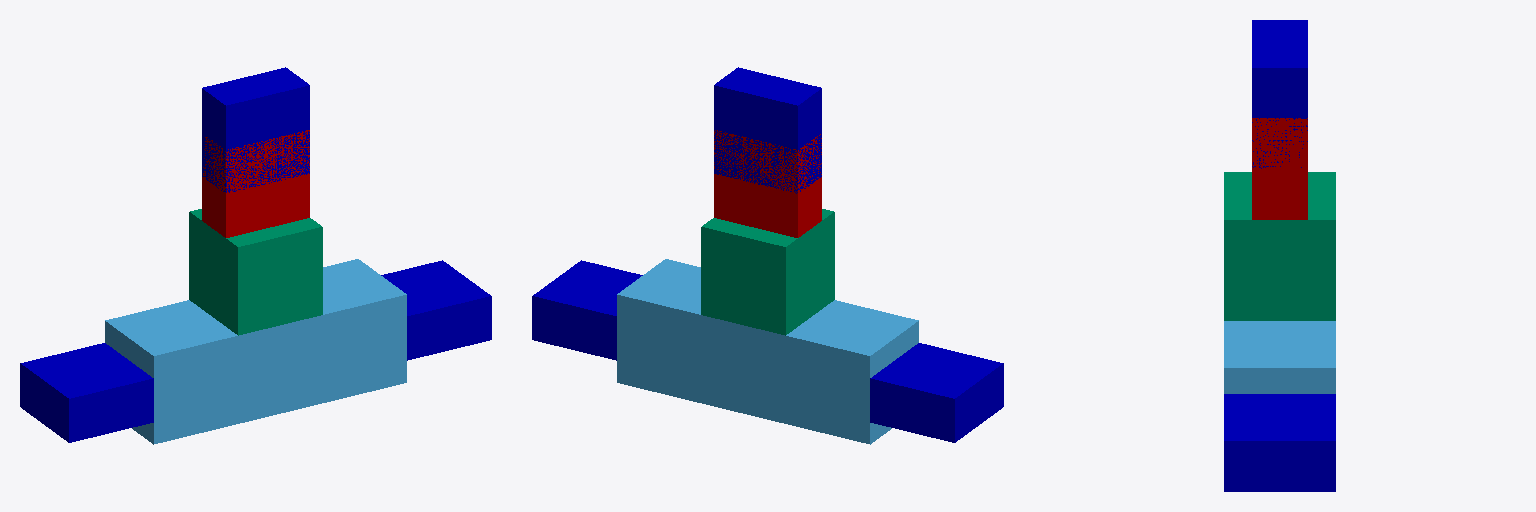
The robot description file, URDF, robot "Chain":
<?xml version="1.0" ?>
<!-- =================================================================================== -->
<!-- |    This document was autogenerated by xacro from chain3.xacro                   | -->
<!-- |    EDITING THIS FILE BY HAND IS NOT RECOMMENDED                                 | -->
<!-- =================================================================================== -->
<robot name="Chain" xmlns:xacro="http://www.ros.org/wiki/xacro">
  <link name="baselink"/>
  <link name="chainbase">
    <visual>
      <geometry>
        <box size="0.3 0.1 0.1"/>
      </geometry>
    </visual>
    <inertial>
      <mass value="1"/>
      <inertia ixx="0.00666666666667" ixy="0.0" ixz="0.0" iyy="0.0333333333333" iyz="0.0" izz="0.0333333333333"/>
    </inertial>
  </link>
  <link name="fixedlink">
    <visual>
      <geometry>
        <box size="0.1 0.1 0.1"/>
      </geometry>
    </visual>
    <inertial>
      <mass value="1"/>
      <inertia ixx="0.00666666666667" ixy="0.0" ixz="0.0" iyy="0.00666666666667" iyz="0.0" izz="0.00666666666667"/>
    </inertial>
  </link>
  <link name="link1">
    <visual>
      <origin rpy="0 0 0" xyz="0.05 0.0 0"/>
      <geometry>
        <box size="0.1 .10 0.05"/>
      </geometry>
      <material name="blue">
        <color rgba="0 0 0.8 1"/>
      </material>
    </visual>
    <inertial>
      <origin rpy="0 0 0" xyz="0.05 0.0 0"/>
      <mass value="1"/>
      <inertia ixx="0.00416666666667" ixy="0.0" ixz="0.0" iyy="0.00416666666667" iyz="0.0" izz="0.00666666666667"/>
    </inertial>
  </link>
  <link name="link2">
    <visual>
      <origin rpy="0 0 0" xyz="-0.05 0.0 0"/>
      <geometry>
        <box size="0.1 .10 0.05"/>
      </geometry>
      <material name="blue">
        <color rgba="0 0 0.8 1"/>
      </material>
    </visual>
    <inertial>
      <origin rpy="0 0 0" xyz="-0.05 0.0 0"/>
      <mass value="1"/>
      <inertia ixx="0.00416666666667" ixy="0.0" ixz="0.0" iyy="0.00416666666667" iyz="0.0" izz="0.00666666666667"/>
    </inertial>
  </link>
  <link name="link3">
    <visual>
      <origin rpy="0 0 0" xyz="0.0 0.0 0.05"/>
      <geometry>
        <box size="0.1 0.05 0.1"/>
      </geometry>
      <material name="red">
        <color rgba="0.8 0 0 1"/>
      </material>
    </visual>
    <inertial>
      <origin rpy="0 0 0" xyz="0.0 0.0 0.05"/>
      <mass value="1"/>
      <inertia ixx="0.00416666666667" ixy="0.0" ixz="0.0" iyy="0.00666666666667" iyz="0.0" izz="0.00416666666667"/>
    </inertial>
  </link>
  <link name="link4">
    <visual>
      <origin rpy="0 0 0" xyz="0.0 0.0 0.05"/>
      <geometry>
        <box size="0.1 0.05 0.1"/>
      </geometry>
      <material name="blue">
        <color rgba="0 0 0.8 1"/>
      </material>
    </visual>
    <inertial>
      <origin rpy="0 0 0" xyz="0.0 0.0 0.05"/>
      <mass value="1"/>
      <inertia ixx="0.00416666666667" ixy="0.0" ixz="0.0" iyy="0.00666666666667" iyz="0.0" izz="0.00416666666667"/>
    </inertial>
  </link>
  <!-- Joints -->
  <joint name="basetoroot" type="fixed">
    <parent link="baselink"/>
    <child link="chainbase"/>
    <origin rpy="0 0 0" xyz="0 0 0"/>
  </joint>
  <joint name="roottofixedlink1" type="fixed">
    <parent link="chainbase"/>
    <child link="fixedlink"/>
    <origin rpy="0 0 0" xyz="0.0 0.0 0.1"/>
  </joint>
  <joint name="fixedlinktolink3" type="fixed">
    <parent link="fixedlink"/>
    <child link="link3"/>
    <origin rpy="0 0 0" xyz="0.0 0.0 0.05"/>
  </joint>
  <joint name="link3tolink4" type="revolute">
    <parent link="link3"/>
    <child link="link4"/>
    <origin rpy="0 0 0" xyz="0.0 0.0 0.05"/>
    <axis xyz="0 -1 0"/>
    <limit effort="30" lower="-5" upper="5" velocity="5.0"/>
  </joint>
  <joint name="roottolink1" type="revolute">
    <parent link="chainbase"/>
    <child link="link1"/>
    <origin rpy="0 0 0" xyz="0.15 0.0 0"/>
    <axis xyz="0 -1 0"/>
    <limit effort="30" lower="-5" upper="5" velocity="5.0"/>
  </joint>
  <joint name="roottolink2" type="revolute">
    <parent link="chainbase"/>
    <child link="link2"/>
    <origin rpy="0 0 0" xyz="-0.15 0.0 0"/>
    <axis xyz="0 -1 0"/>
    <limit effort="30" lower="-5" upper="5" velocity="5.0"/>
  </joint>
</robot>

--- What the picture shows (computed from the rendered views, not written in the file) ---
Views: 3 orthographic renders of the robot side by side, from view 1: azimuth 30°, elevation 25°; view 2: azimuth 150°, elevation 25°; view 3: azimuth 270°, elevation 25°.
Robot: Chain — 7 links, 6 joints (3 revolute, 3 fixed); root link baselink; default pose: all joints at 0.
Links seen in each view (by area): view 1: chainbase, fixedlink, link2, link4, link3, link1; view 2: chainbase, fixedlink, link2, link4, link1, link3; view 3: fixedlink, link1, chainbase, link4, link3.
Boxes of the visible links, x1,y1,x2,y2 form: chainbase: (105, 259, 406, 444); fixedlink: (189, 209, 322, 335); link2: (20, 343, 153, 442); link4: (202, 67, 309, 192); link3: (202, 130, 309, 237); link1: (381, 260, 491, 360); chainbase: (617, 259, 918, 444); fixedlink: (701, 209, 834, 335); link2: (870, 343, 1003, 442); link4: (714, 67, 821, 193); link1: (532, 260, 642, 360); link3: (714, 130, 821, 237); fixedlink: (1224, 172, 1335, 320); link1: (1224, 394, 1335, 491); chainbase: (1224, 321, 1335, 393); link4: (1252, 20, 1307, 168); link3: (1252, 118, 1307, 219).
Bounding box of the posed robot: 0.5 × 0.1 × 0.35 m (x, y, z).
Geometry: primitives only (box / cylinder / sphere), no mesh files.